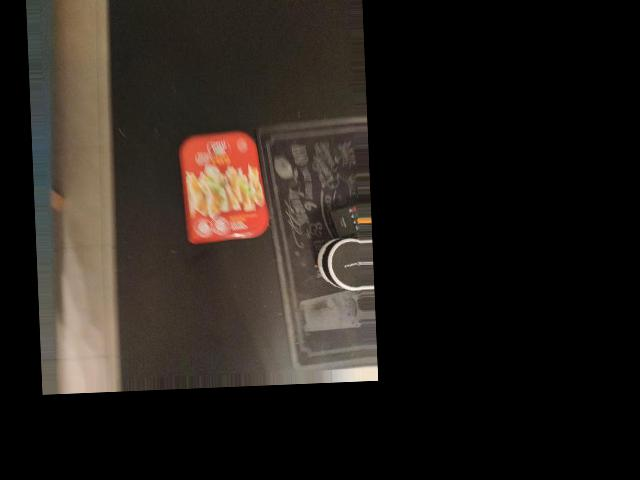cheese: (177, 130, 270, 243)
